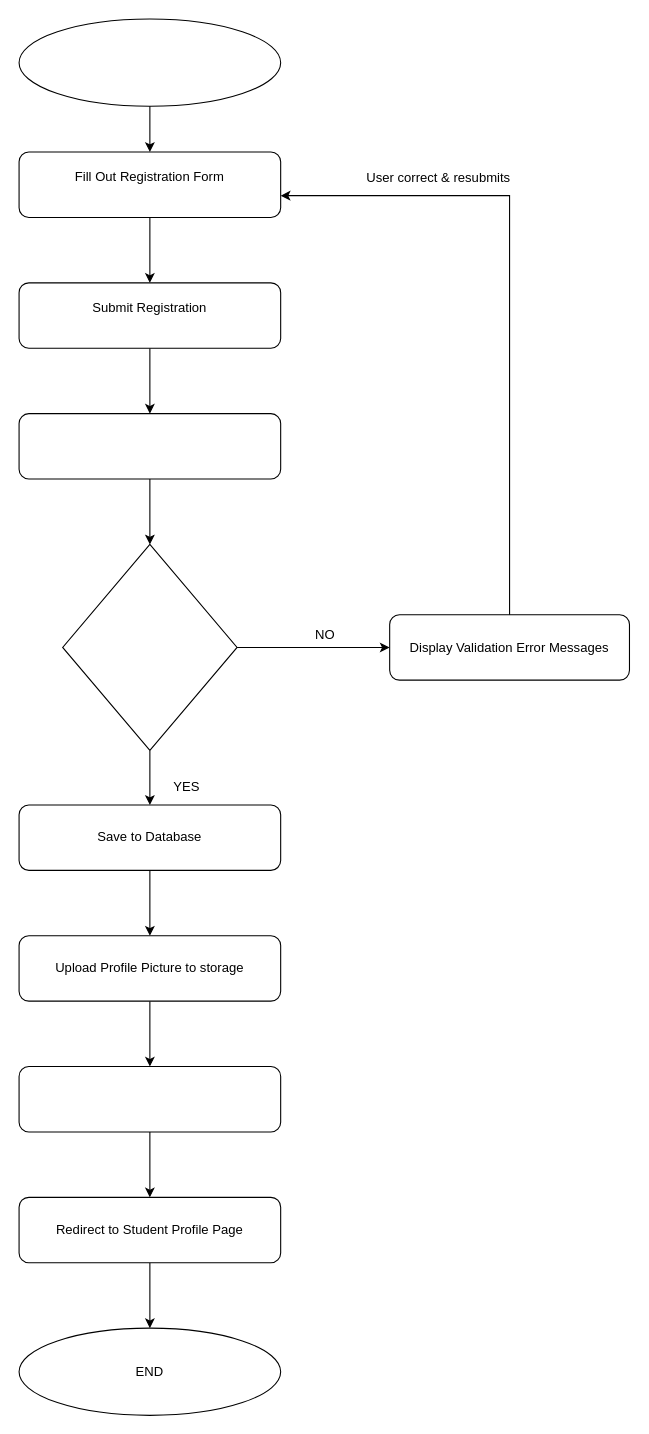
The diagram is 649 pixels wide and 1434 high, and some of its shapes have lost their labels. The centre of each missing label's shape, as x and y in pixels:
Laravel Validates Data: the point at 149,446
Show Success Flash Messege: the point at 149,1098
Start / User Opens Registration Page: the point at 149,62
Valid Data: the point at 149,646
